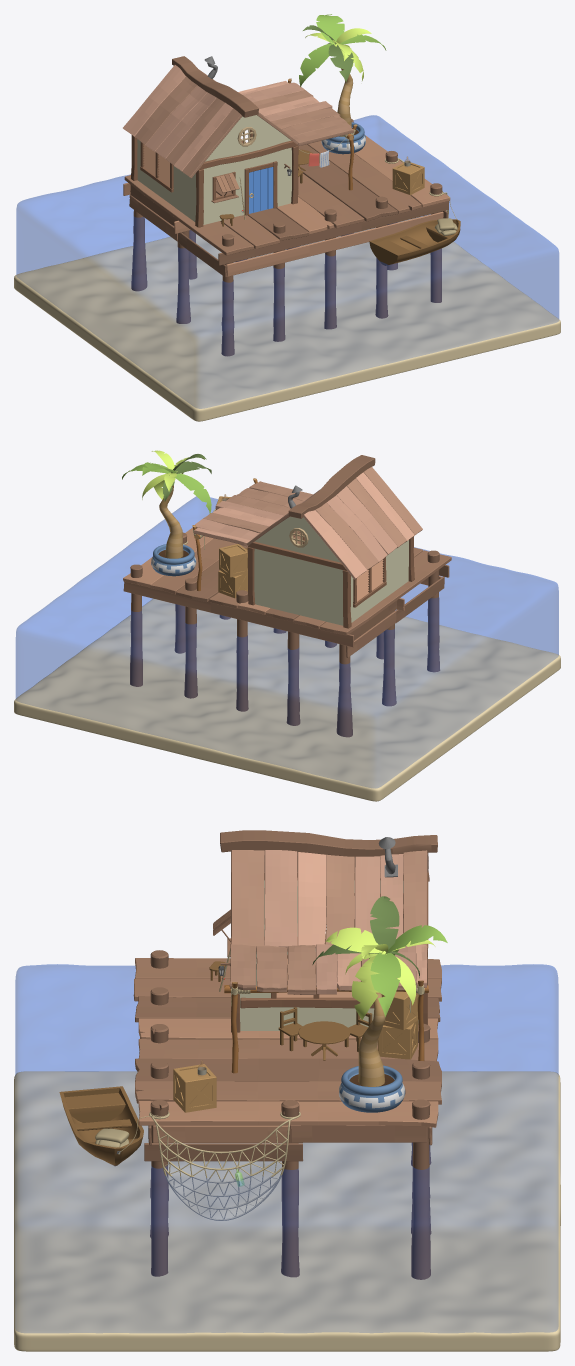
File: sea_shack.glb
3 renders of one model, top to bottom at view 1: azimuth 30°, elevation 25°; view 2: azimuth 150°, elevation 25°; view 3: azimuth 270°, elevation 25°, orthographic. The views are drawn at different scales.
Parts seen in each view (by area): view 1: Water, Sand bottom, Main support poles, Roof, Wall, Plane.008, Palm leafs, Boat, Plank.005, Plane, Plank.010, House supports (+21 smaller); view 2: Water, Sand bottom, Main support poles, Roof, Wall 3, Plane.002, Palm leafs, House supports, Plank, Wall 6, Wall 4, Roof beam (+19 smaller); view 3: Water, Sand bottom, Roof, Main support poles, Palm leafs, Plank.011, Plank.005, Plank.004, Boat, Plank.010, Roof beam, Fishing net (+20 smaller).
Part boxes in pixels (box(x1,y1,x2,y2)): Water: box(16, 115, 558, 408); Sand bottom: box(14, 217, 560, 421); Main support poles: box(131, 119, 442, 356); Roof: box(123, 65, 298, 178); Wall: box(203, 147, 291, 224); Plane.008: box(226, 211, 443, 276); Palm leafs: box(299, 14, 386, 86); Boat: box(369, 219, 460, 265); Plank.005: box(298, 144, 397, 221); Plane: box(218, 201, 448, 265); Plank.010: box(307, 141, 421, 213); House supports: box(131, 135, 298, 227); Water: box(16, 496, 558, 787); Sand bottom: box(14, 598, 560, 801); Main support poles: box(130, 532, 440, 737); Roof: box(246, 467, 422, 579); Wall 3: box(254, 548, 343, 625); Plane.002: box(123, 581, 353, 647); Palm leafs: box(122, 450, 211, 513); House supports: box(247, 536, 414, 628); Plank: box(320, 550, 451, 635); Wall 6: box(255, 516, 340, 562); Wall 4: box(350, 540, 408, 622); Roof beam: box(288, 455, 375, 518); Water: box(15, 964, 558, 1332); Sand bottom: box(14, 1071, 560, 1351); Roof: box(231, 850, 429, 947); Main support poles: box(150, 950, 431, 1279); Palm leafs: box(312, 896, 447, 1020); Plank.011: box(138, 1101, 438, 1127); Plank.005: box(135, 1058, 441, 1081); Plank.004: box(138, 1039, 438, 1061); Boat: box(59, 1086, 143, 1166); Plank.010: box(135, 1081, 441, 1104); Roof beam: box(220, 830, 437, 857); Fishing net: box(149, 1112, 300, 1220).
Size of the model in its own units: 2147 by 1370 by 1883.
